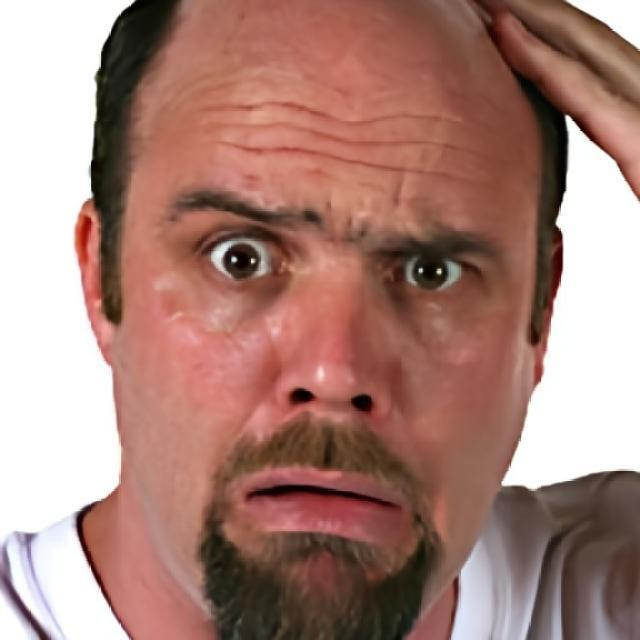fear: (114, 62, 528, 624)
